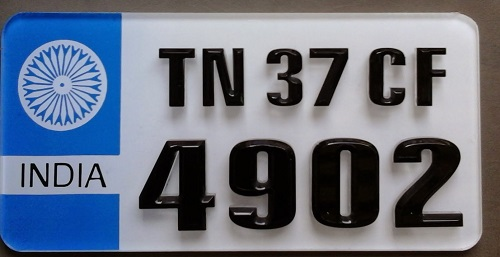number_plate: (26, 15, 485, 254)
